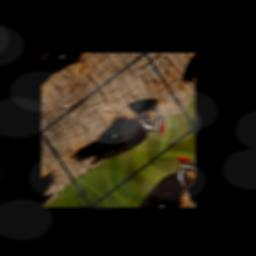Woodpecker: (61, 83, 174, 192)
